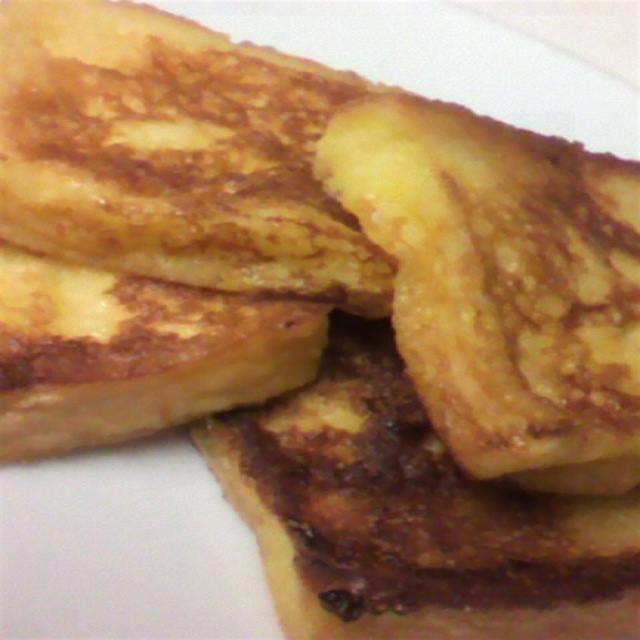面包点心: (9, 10, 630, 631)
